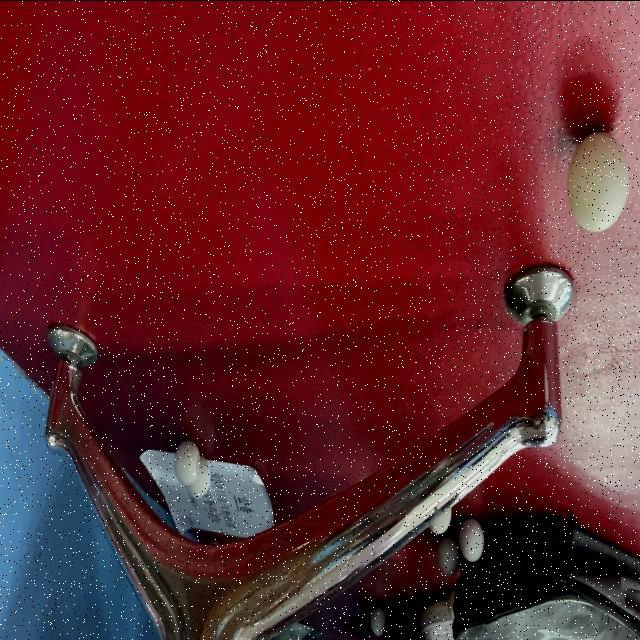ping-pong-ball: (567, 129, 631, 233), (172, 437, 200, 487), (458, 515, 486, 561), (186, 454, 212, 500), (436, 532, 461, 578), (427, 493, 453, 535), (368, 602, 386, 638)
